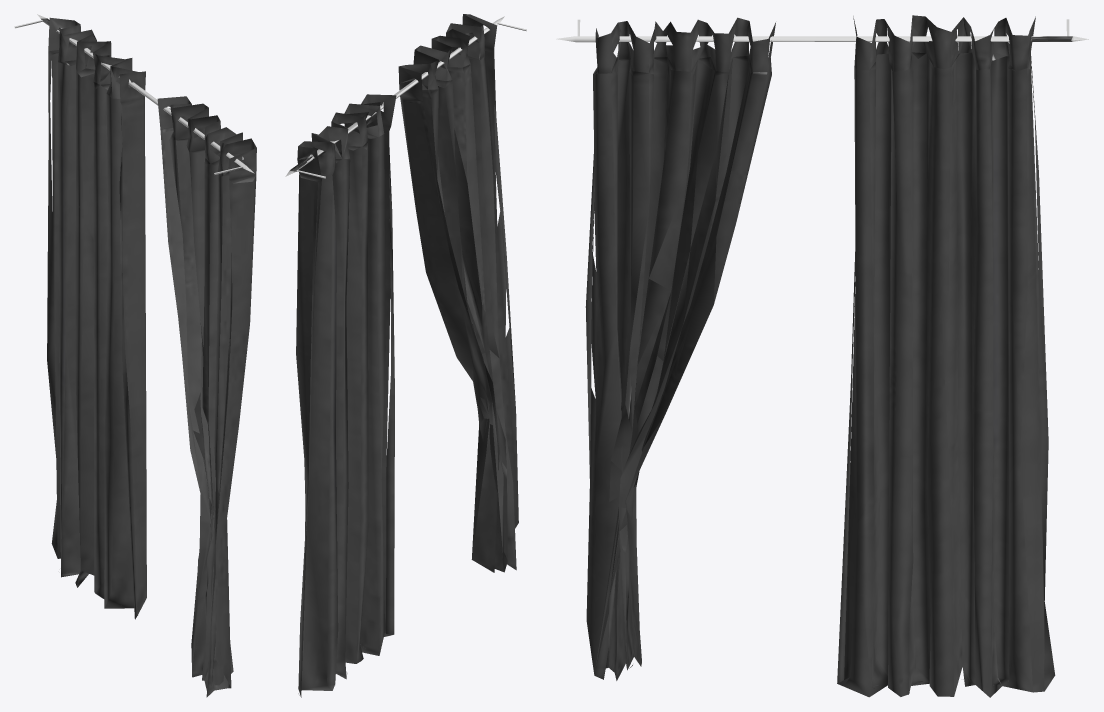
Rendered from Curtains0010.obj.
The picture shows the model from 3 angles, left to right: view 1: azimuth 30°, elevation 25°; view 2: azimuth 150°, elevation 25°; view 3: azimuth 270°, elevation 25°; orthographic projection. The views are drawn at different scales.
Size of the model in its own units: 0.3 by 3.05 by 2.19.
1 material, 1 textured.
